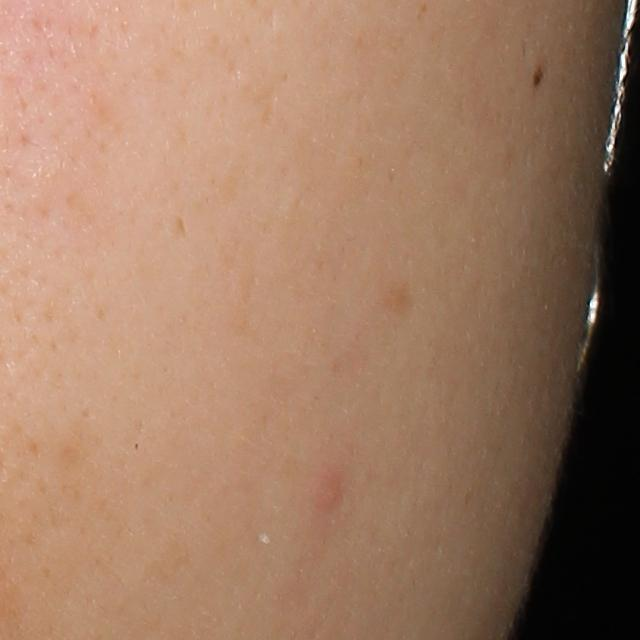nevus: (529, 63, 545, 91)
papule: (308, 463, 347, 517)
